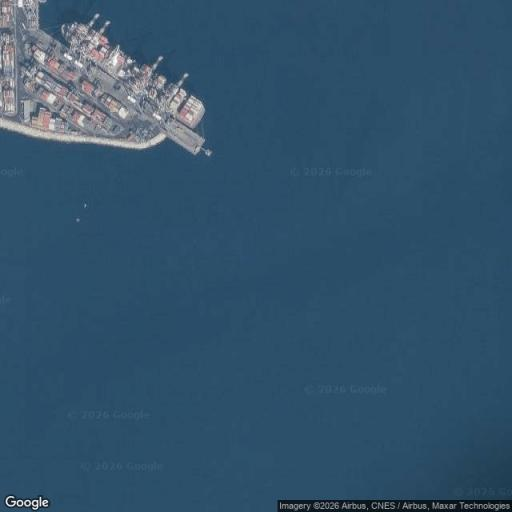ship: (62, 22, 207, 129)
